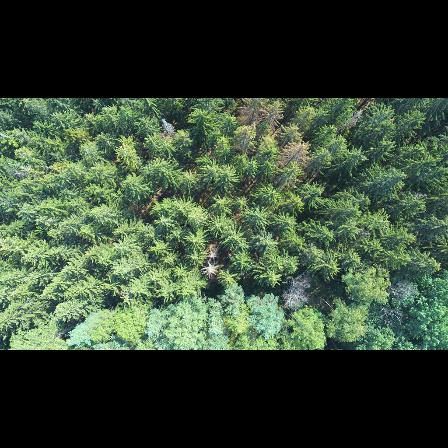Dead: (279, 271, 315, 311), (385, 277, 416, 299), (199, 261, 221, 283), (377, 307, 402, 326), (158, 117, 179, 138), (202, 247, 224, 260)
